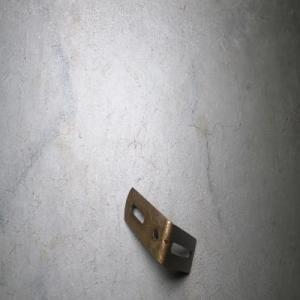MetalPart: (123, 185, 197, 275)
